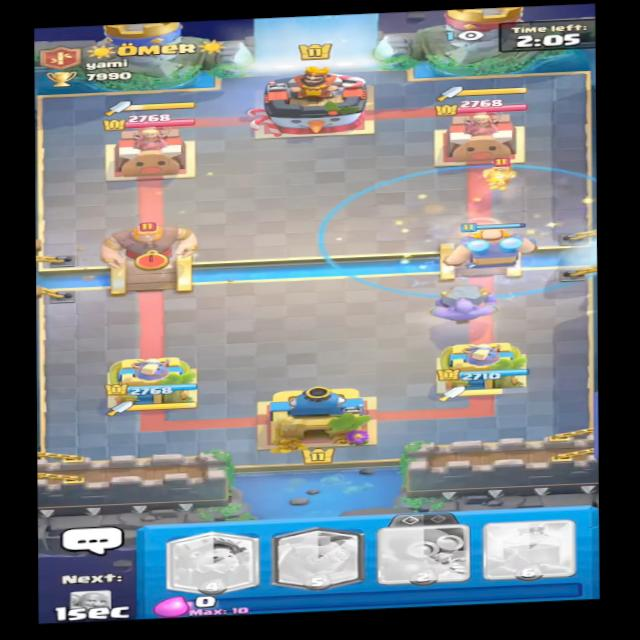giant: (97, 215, 201, 278)
wizard: (475, 153, 523, 195)
